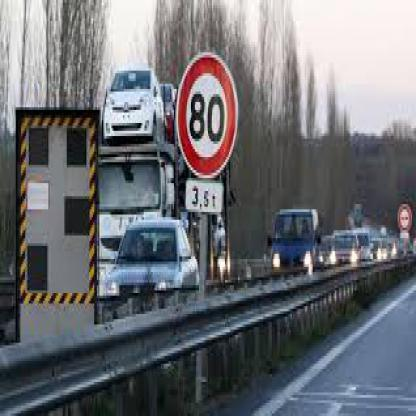Speed Limit 80: (177, 54, 233, 176)
